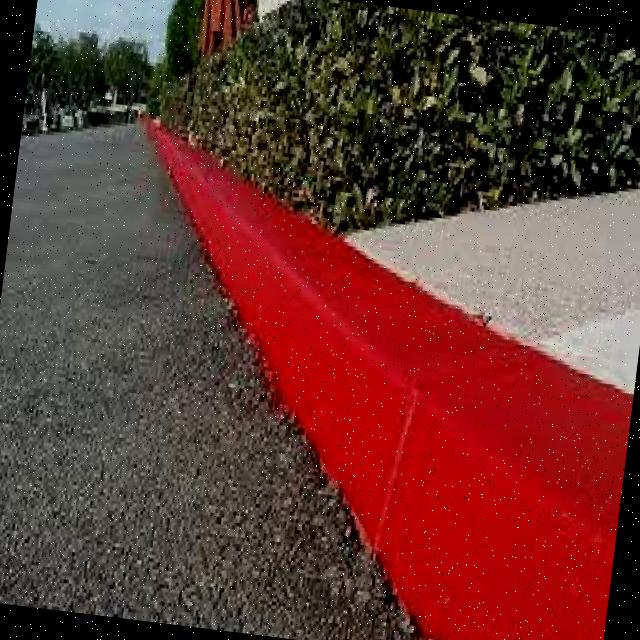curb: (371, 295, 637, 640), (216, 185, 447, 557), (123, 108, 282, 282)
